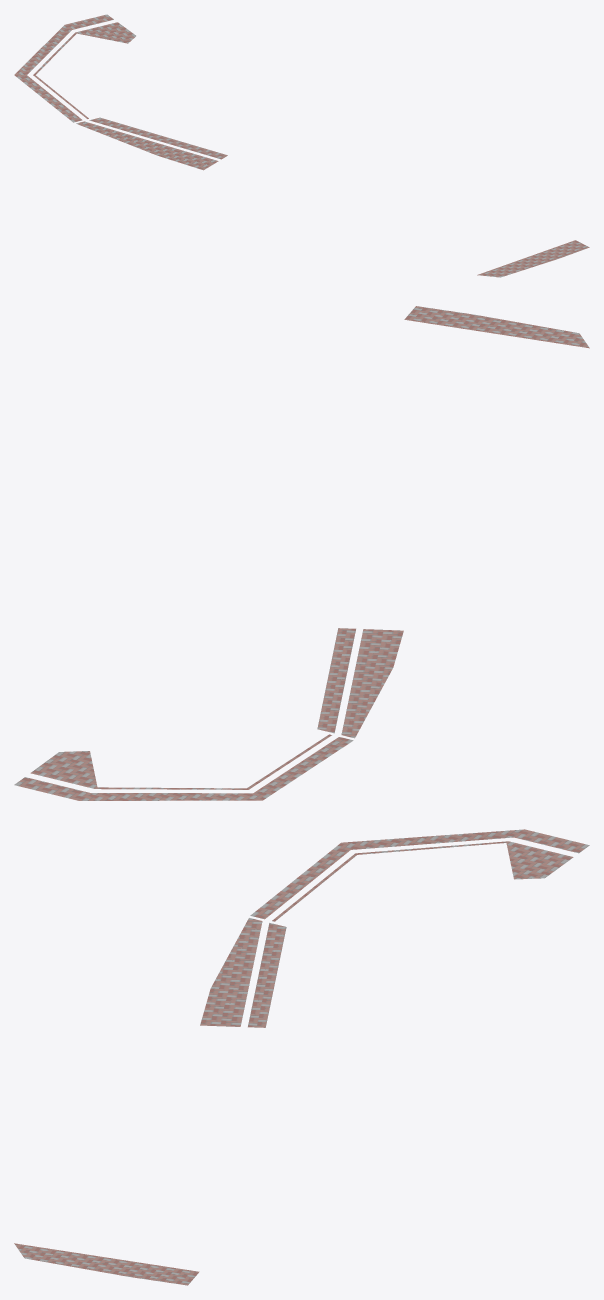
The model's file is kd_stage_135ebf_1_17.glb.
The picture shows the model from 3 angles, top to bottom: view 1: azimuth 30°, elevation 25°; view 2: azimuth 150°, elevation 25°; view 3: azimuth 330°, elevation 25°; orthographic projection. The views are drawn at different scales.
Visible parts, largest first — view 1: kd_stage_135ebf_1_17; view 2: kd_stage_135ebf_1_17; view 3: kd_stage_135ebf_1_17.
Part boxes in pixels (left/top/right/bottom): kd_stage_135ebf_1_17: left=14, top=14, right=589, bottom=277; kd_stage_135ebf_1_17: left=14, top=306, right=589, bottom=800; kd_stage_135ebf_1_17: left=14, top=829, right=589, bottom=1285.
Size of the model in its own units: 17.77 by 1.5 by 49.24.
Materials: 1 (1 with a texture image).
